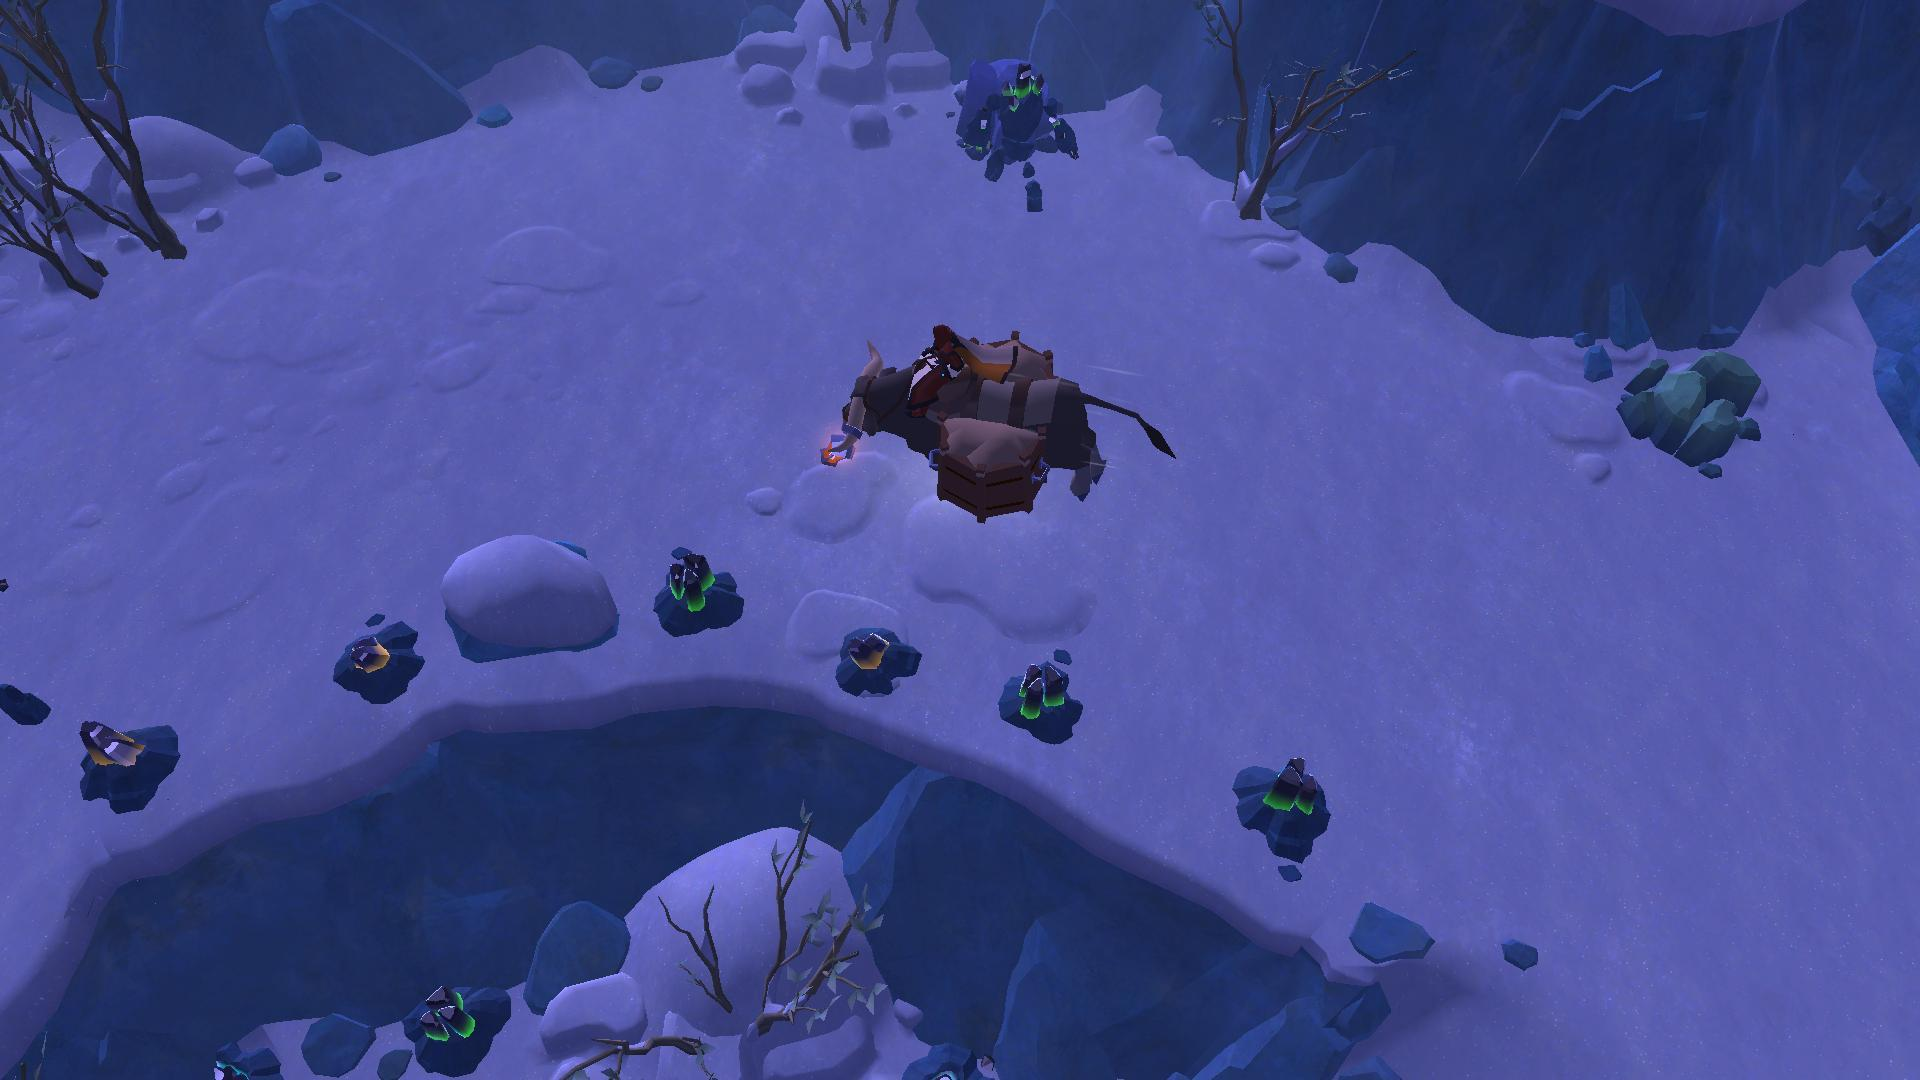ore_t3: (661, 541, 723, 621), (1263, 749, 1320, 828), (407, 984, 472, 1047), (1009, 661, 1072, 724)
rock_t3: (1606, 343, 1768, 479)
